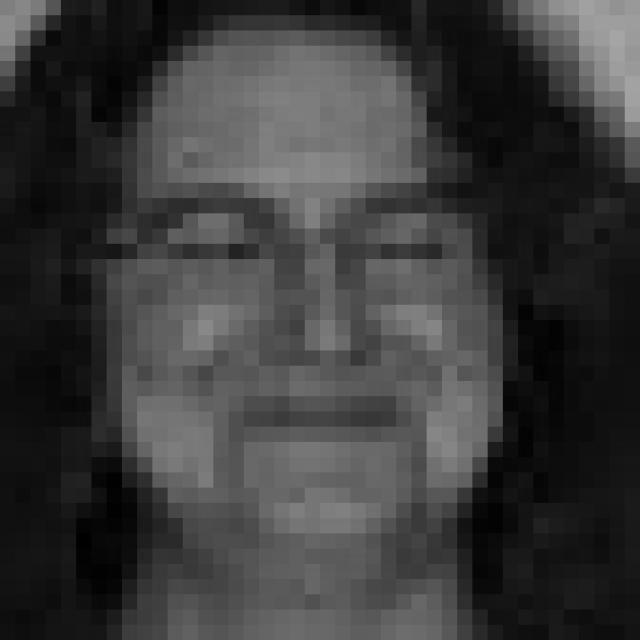real: (42, 6, 552, 582), (124, 154, 502, 320)
